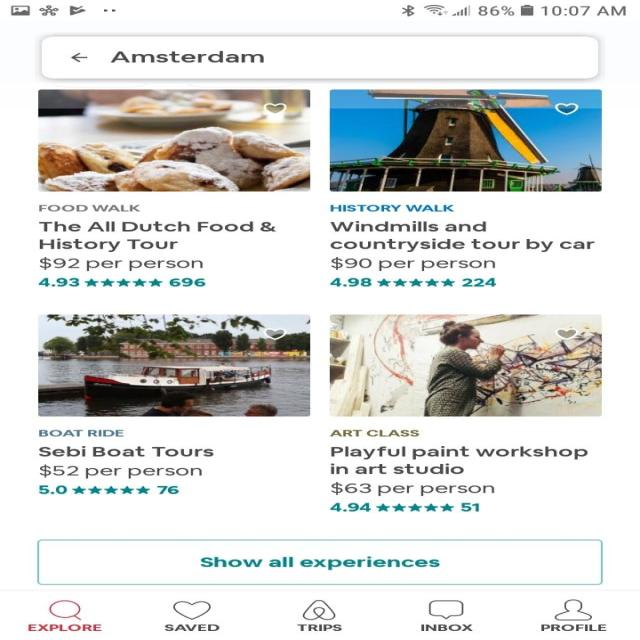EditText: (41, 36, 598, 78)
Icon: (553, 599, 591, 620), (375, 502, 454, 512), (172, 600, 210, 619), (302, 599, 336, 620), (376, 278, 455, 287), (84, 278, 162, 287), (428, 600, 464, 619), (49, 600, 81, 620), (71, 486, 150, 494), (553, 103, 578, 115), (554, 328, 578, 340), (263, 328, 286, 340), (263, 103, 286, 114), (70, 53, 88, 62)
Image: (329, 89, 601, 192), (38, 89, 310, 192), (38, 314, 310, 416), (329, 314, 601, 416)
Text: (330, 220, 594, 252), (38, 221, 276, 252), (329, 446, 587, 474), (330, 256, 496, 271), (330, 481, 494, 496), (39, 464, 202, 479), (39, 257, 203, 271), (38, 446, 214, 457), (109, 51, 264, 63), (328, 204, 454, 212), (328, 429, 419, 437), (38, 205, 140, 212), (39, 429, 124, 437), (28, 624, 102, 632), (540, 624, 606, 632), (163, 624, 220, 632), (420, 624, 473, 632), (328, 278, 372, 287), (329, 502, 371, 511), (296, 624, 342, 632), (38, 278, 80, 286), (168, 278, 205, 287), (461, 278, 496, 286), (38, 485, 68, 494), (156, 485, 178, 494), (460, 502, 480, 511)
TextButton: (37, 539, 603, 585)
